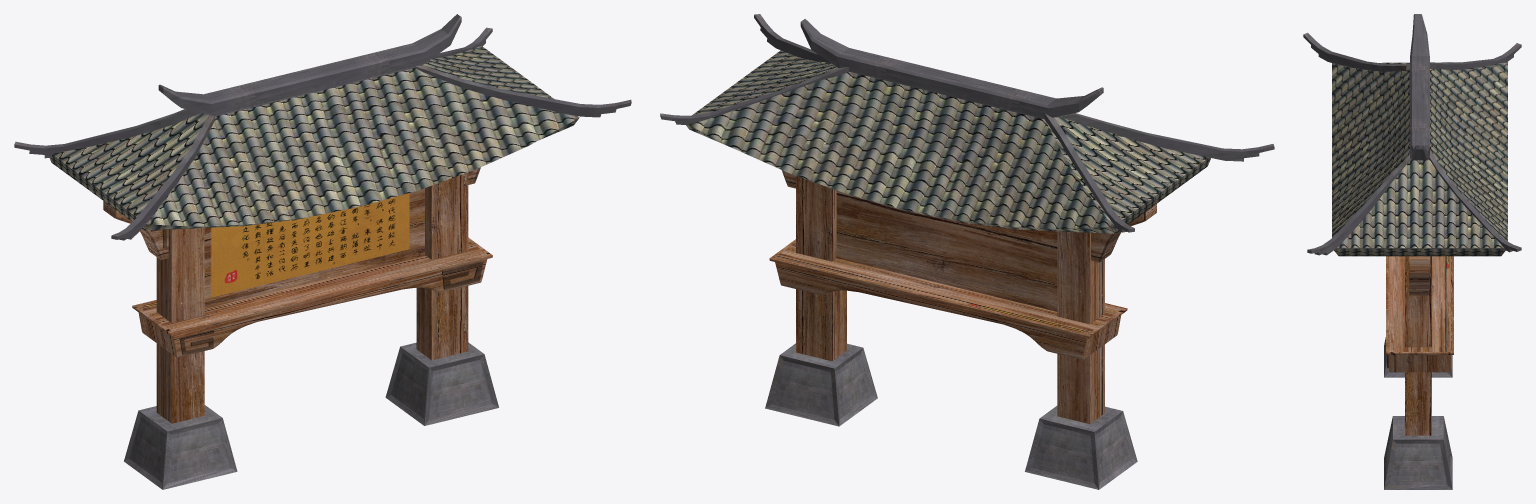
File: gaoshipai1.FBX
3 renders of one model, left to right at view 1: azimuth 30°, elevation 25°; view 2: azimuth 150°, elevation 25°; view 3: azimuth 270°, elevation 25°, orthographic. The views are drawn at different scales.
Parts seen in each view (by area): view 1: Box001, Box004, Line005, Box003, Box002, Box005, Box006, Line001, Line002, Line003, Line007; view 2: Box001, Box004, Line005, Box003, Box005, Box006, Box002, Line003, Line002, Line004, Line001, Line007; view 3: Box001, Line005, Box006, Box002, Line001, Line003, Line004, Line008, Line002, Box005.
Part boxes in pixels (<box>): Box001: <box>49,14,579,230</box>; Box004: <box>204,188,424,308</box>; Line005: <box>132,237,492,357</box>; Box003: <box>156,228,204,423</box>; Box002: <box>416,172,468,360</box>; Box005: <box>124,405,237,489</box>; Box006: <box>385,342,498,425</box>; Line001: <box>414,65,631,117</box>; Line002: <box>14,109,200,158</box>; Line003: <box>111,115,214,240</box>; Line007: <box>103,201,168,259</box>; Box001: <box>686,19,1210,233</box>; Box004: <box>836,191,1057,311</box>; Line005: <box>769,239,1127,359</box>; Box003: <box>1057,231,1104,423</box>; Box005: <box>1025,406,1137,489</box>; Box006: <box>765,343,877,426</box>; Box002: <box>796,176,846,361</box>; Line003: <box>1062,113,1274,161</box>; Line002: <box>1044,113,1134,232</box>; Line004: <box>660,67,848,128</box>; Line001: <box>754,14,829,62</box>; Line007: <box>1091,204,1156,262</box>; Box001: <box>1332,14,1507,256</box>; Line005: <box>1386,256,1453,372</box>; Box006: <box>1384,416,1452,489</box>; Box002: <box>1405,256,1431,435</box>; Line001: <box>1307,154,1410,255</box>; Line003: <box>1303,32,1409,71</box>; Line004: <box>1429,150,1521,252</box>; Line008: <box>1409,256,1429,295</box>; Line002: <box>1430,43,1521,69</box>; Box005: <box>1384,337,1452,377</box>.
Size of the model in its own units: 399 by 281 by 164.
Materials: 7 (7 with a texture image).
